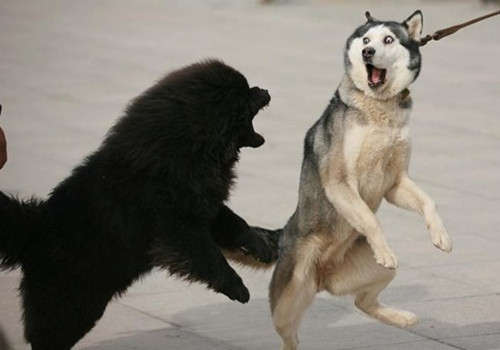dog: (163, 53, 283, 168), (328, 7, 453, 111)
